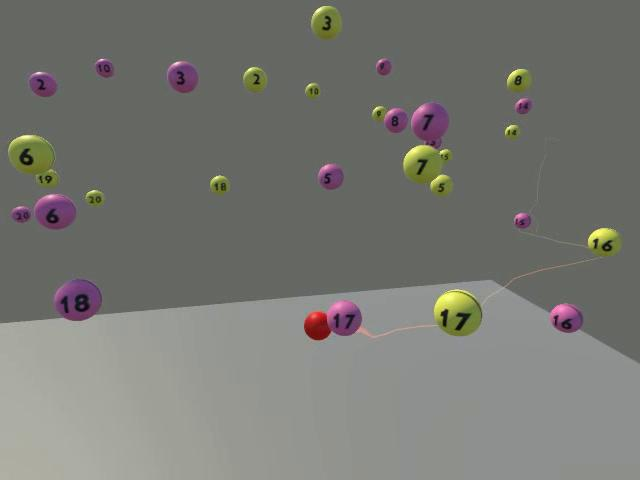ball_02_pink: (28, 71, 56, 96)
ball_02_yellow: (242, 66, 267, 91)
ball_03_pink: (166, 60, 198, 92)
ball_03_yellow: (310, 5, 341, 39)
ball_05_pink: (317, 163, 343, 189)
ball_05_yellow: (429, 174, 453, 196)
ball_06_pink: (33, 193, 76, 229)
ball_06_yellow: (7, 134, 55, 174)
ball_07_pink: (410, 102, 449, 140)
ball_07_yellow: (402, 144, 442, 183)
ball_08_pink: (383, 107, 407, 133)
ball_08_yellow: (506, 68, 531, 91)
ball_09_pink: (375, 57, 391, 75), (371, 105, 386, 121)
ball_10_pink: (94, 58, 114, 77)
ball_10_yellow: (304, 82, 319, 98)
ball_14_pink: (514, 97, 531, 113)
ball_14_yellow: (504, 124, 519, 139)
ball_15_pink: (513, 212, 531, 228)
ball_15_yellow: (439, 148, 452, 162)
ball_16_pink: (549, 303, 582, 332)
ball_16_yellow: (587, 227, 622, 256)
ball_17_pink: (326, 300, 361, 335)
ball_17_yellow: (433, 288, 482, 336)
ball_18_pink: (53, 278, 102, 320)
ball_18_yellow: (209, 175, 229, 194)
ball_19_yellow: (35, 168, 58, 187)
ball_20_pink: (10, 205, 30, 223)
ball_20_yellow: (85, 189, 104, 206)
ball_unknown: (424, 137, 441, 149)
user_cursor: (303, 310, 330, 340)
